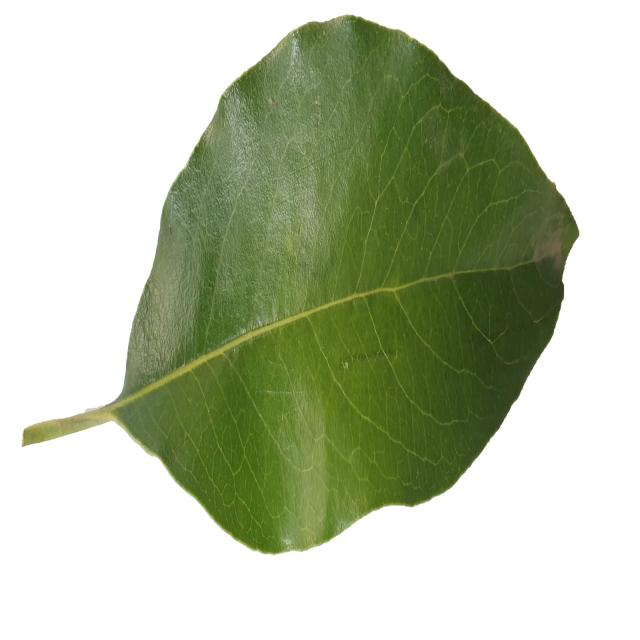Medicinal-Sandalwood: (22, 13, 581, 550)
